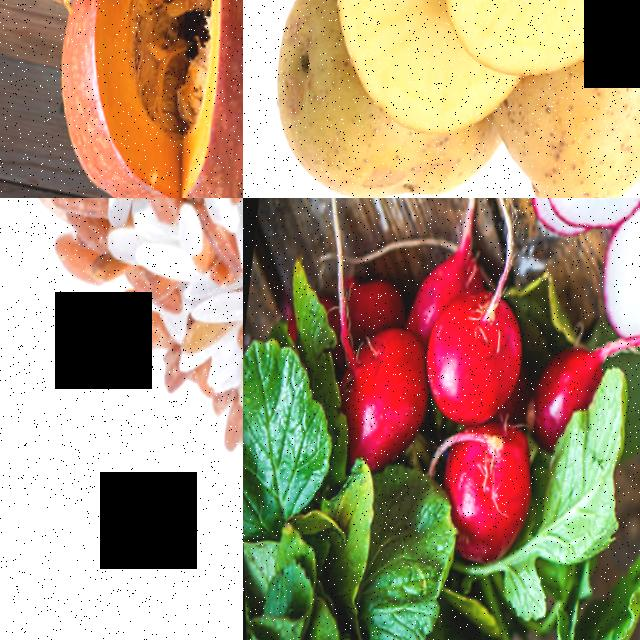potato: (252, 0, 521, 198), (428, 0, 640, 105), (494, 64, 640, 198)
pumpkin: (72, 0, 243, 198), (0, 0, 189, 92)
radishes: (283, 244, 625, 619), (520, 198, 640, 258), (591, 222, 640, 357)
red rice: (0, 198, 243, 640)
